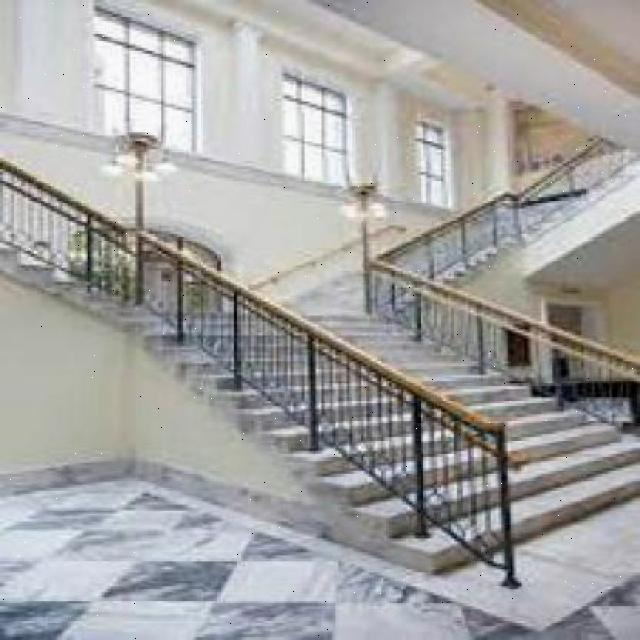stair: (325, 305, 632, 538)
